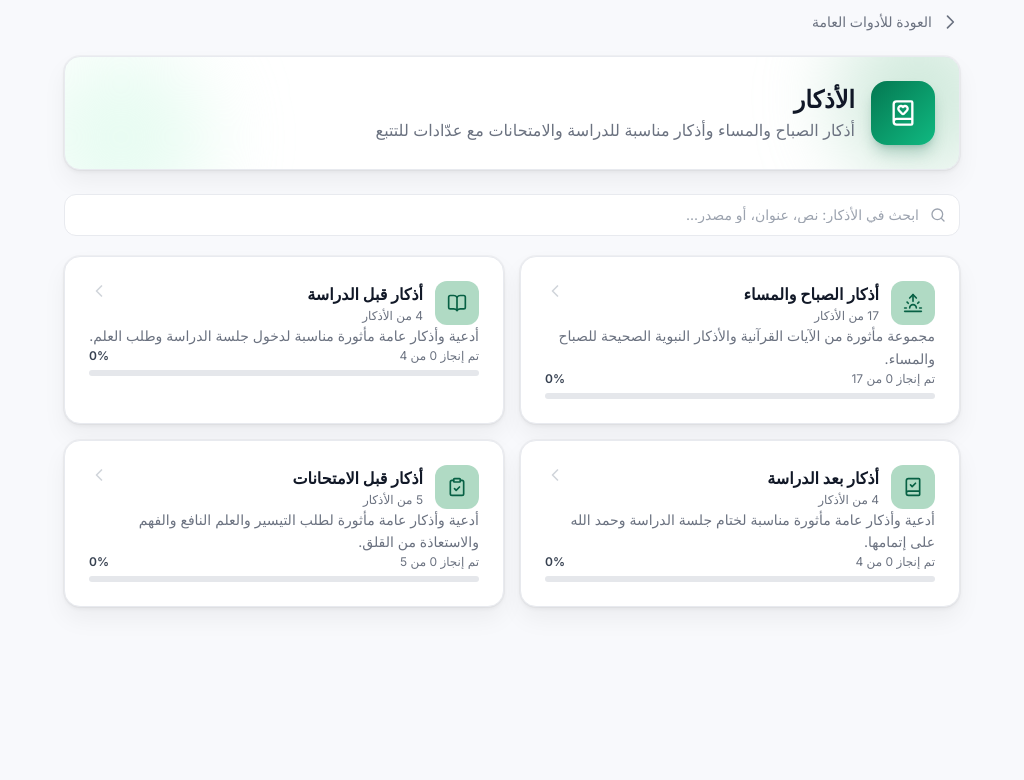
it: GeneralToolPage chrome visibility for Adhkar › shows the tool hero and the general-tools back button on the landing page, but hides them inside a category
The image size is (1024, 780).
Expected: the button "العودة للأدوات العامة" is shown, top-left (812, 12), bottom-right (960, 32)
Expected: the heading "الأذكار" is shown, top-left (794, 85), bottom-right (855, 114)
Click the button "أذكار قبل الدراسة" at (284, 340), box top-left (64, 256), bottom-right (504, 424)
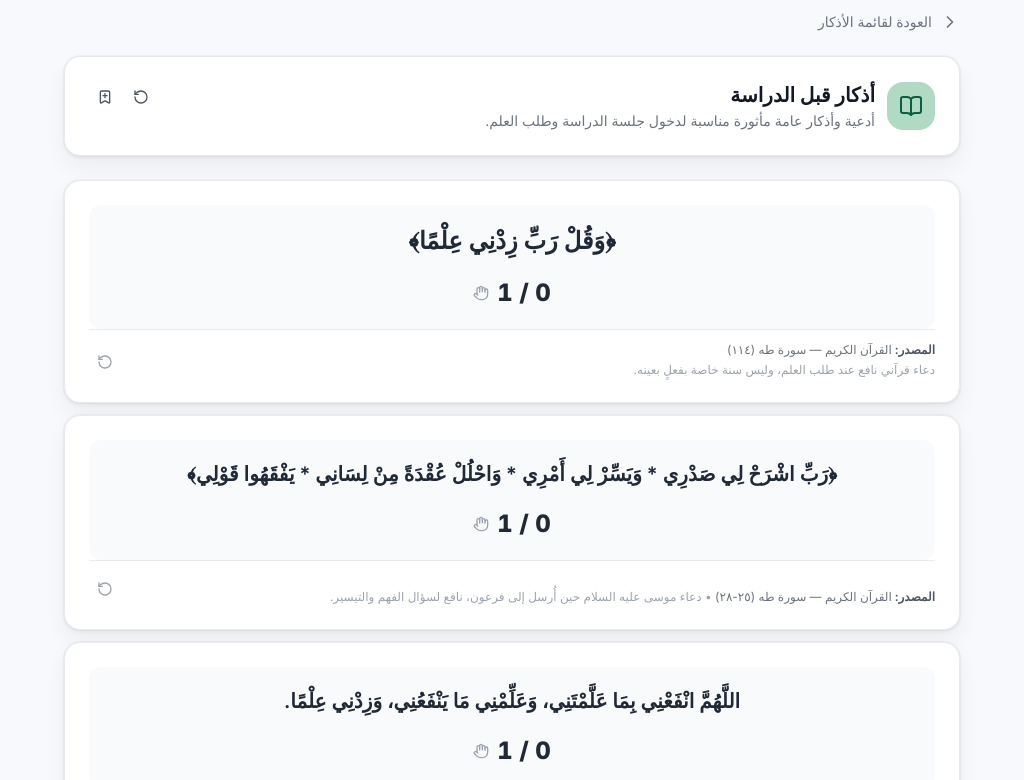
Expected: the heading "أذكار قبل الدراسة" is shown, top-left (730, 83), bottom-right (875, 107)
Result: the button "العودة للأدوات العامة" is gone
Result: the button "العودة لقائمة الأذكار" is shown at top-left (818, 12), bottom-right (960, 32)
